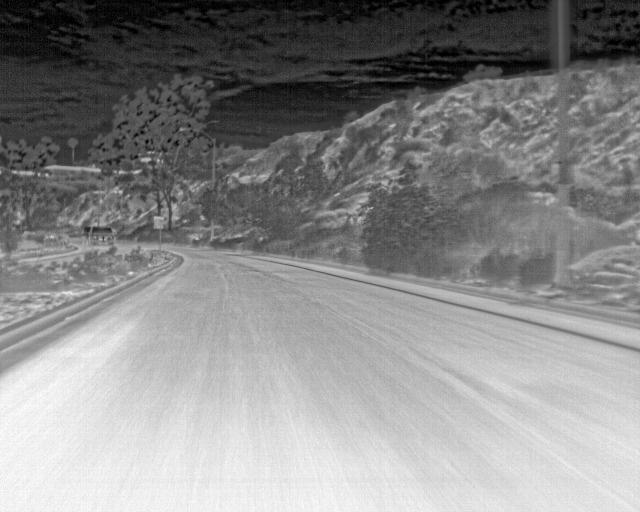car: (89, 225, 114, 248)
